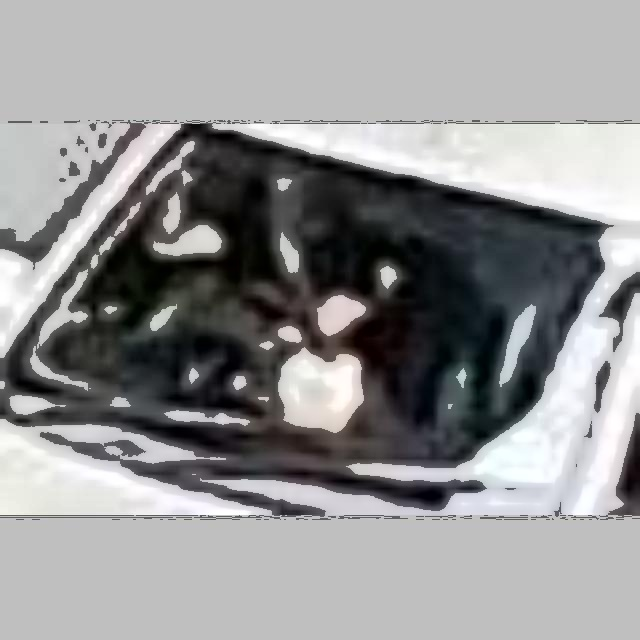pakai: (166, 184, 384, 395)
